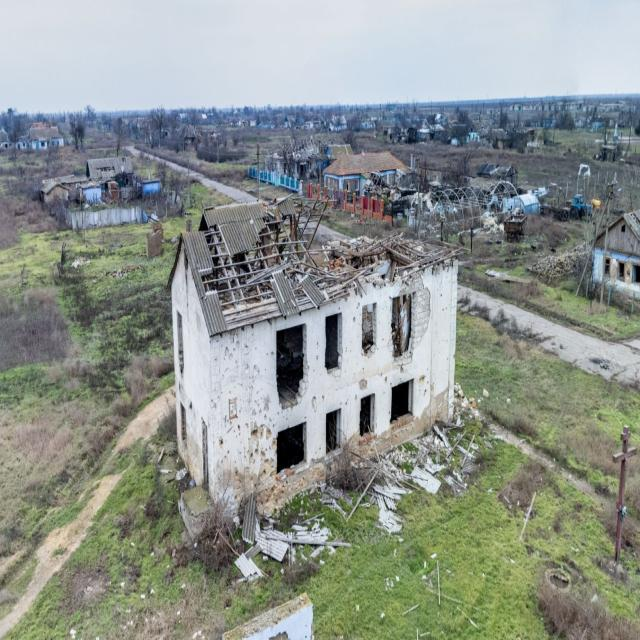broken_window: (276, 323, 306, 410), (276, 422, 306, 474), (391, 294, 412, 357), (390, 378, 413, 424), (325, 312, 342, 372), (361, 302, 376, 355), (325, 407, 341, 454), (359, 393, 375, 438)
building: (166, 195, 459, 526), (591, 208, 639, 290)
damaged_roof: (167, 194, 460, 337)
